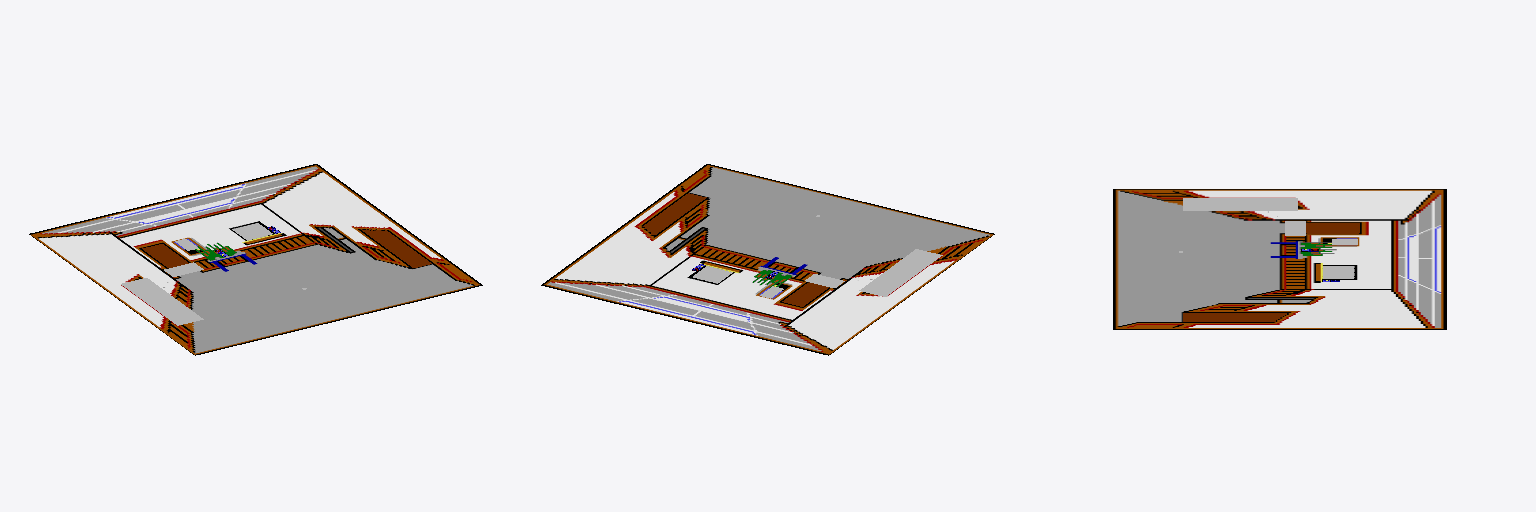
The picture shows the model from 3 angles: view 1: azimuth 30°, elevation 25°; view 2: azimuth 150°, elevation 25°; view 3: azimuth 270°, elevation 25°; orthographic projection.
Visible parts, largest first — view 1: BG_Plane, door_Plane.020; view 2: BG_Plane, door_Plane.020; view 3: BG_Plane, door_Plane.020.
Part boxes in pixels (bbox=[...]): BG_Plane: bbox=[29, 164, 482, 355]; door_Plane.020: bbox=[121, 278, 203, 325]; BG_Plane: bbox=[541, 164, 994, 355]; door_Plane.020: bbox=[859, 249, 942, 296]; BG_Plane: bbox=[1113, 189, 1446, 329]; door_Plane.020: bbox=[1183, 198, 1297, 210].
Bounding box in the file's own units: 2 × 0.0502 × 2.
3 materials, 2 textured.